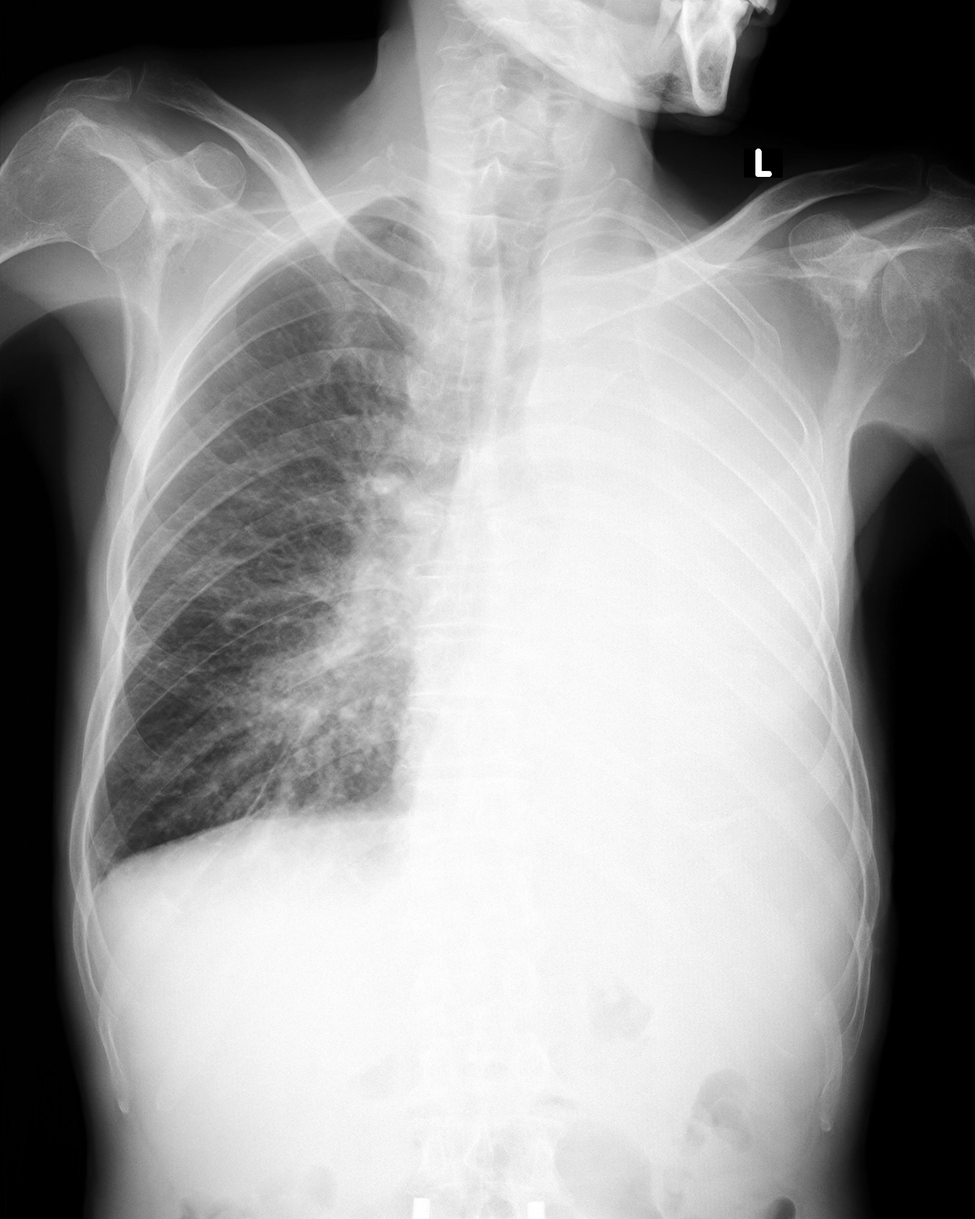Pleural thickening: (67, 862, 113, 912)
